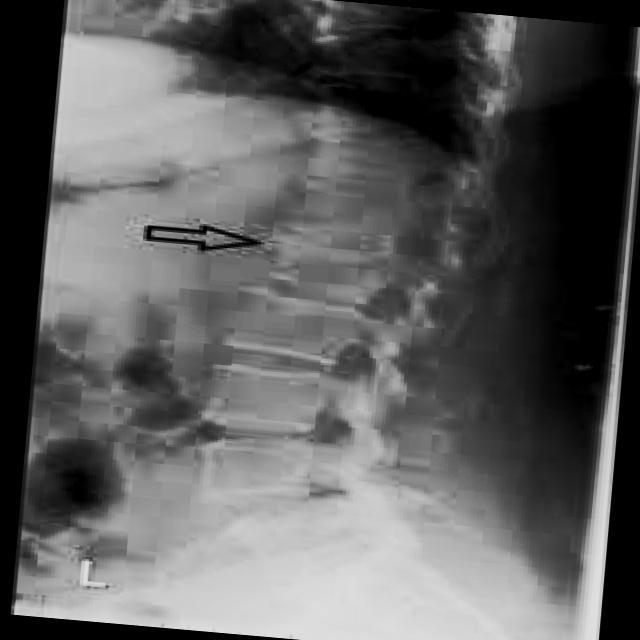Compression-Crush Fracutre: (266, 221, 408, 303)
